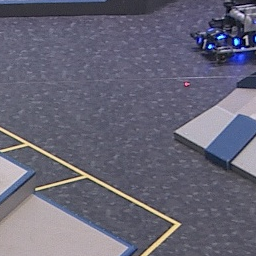Blue: (235, 34, 256, 48), (207, 26, 227, 40), (196, 36, 213, 52)
Robot: (185, 1, 256, 64)
